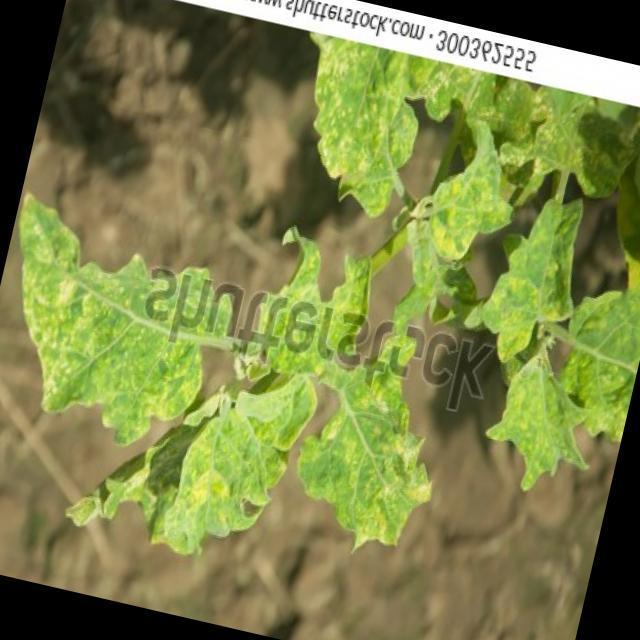Mosaic Virus: (0, 191, 250, 438), (280, 17, 430, 232), (150, 364, 312, 554), (284, 387, 442, 562), (477, 346, 595, 504), (478, 205, 586, 376), (417, 130, 512, 276)
